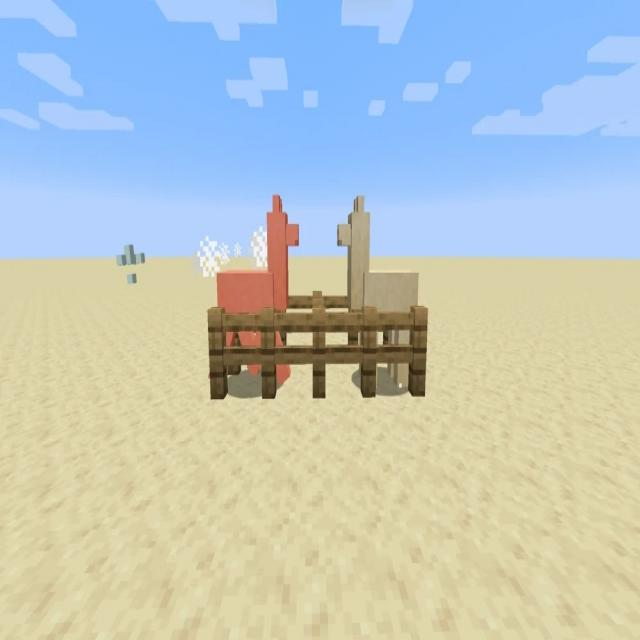Llama: (207, 192, 301, 395), (334, 189, 422, 394)
